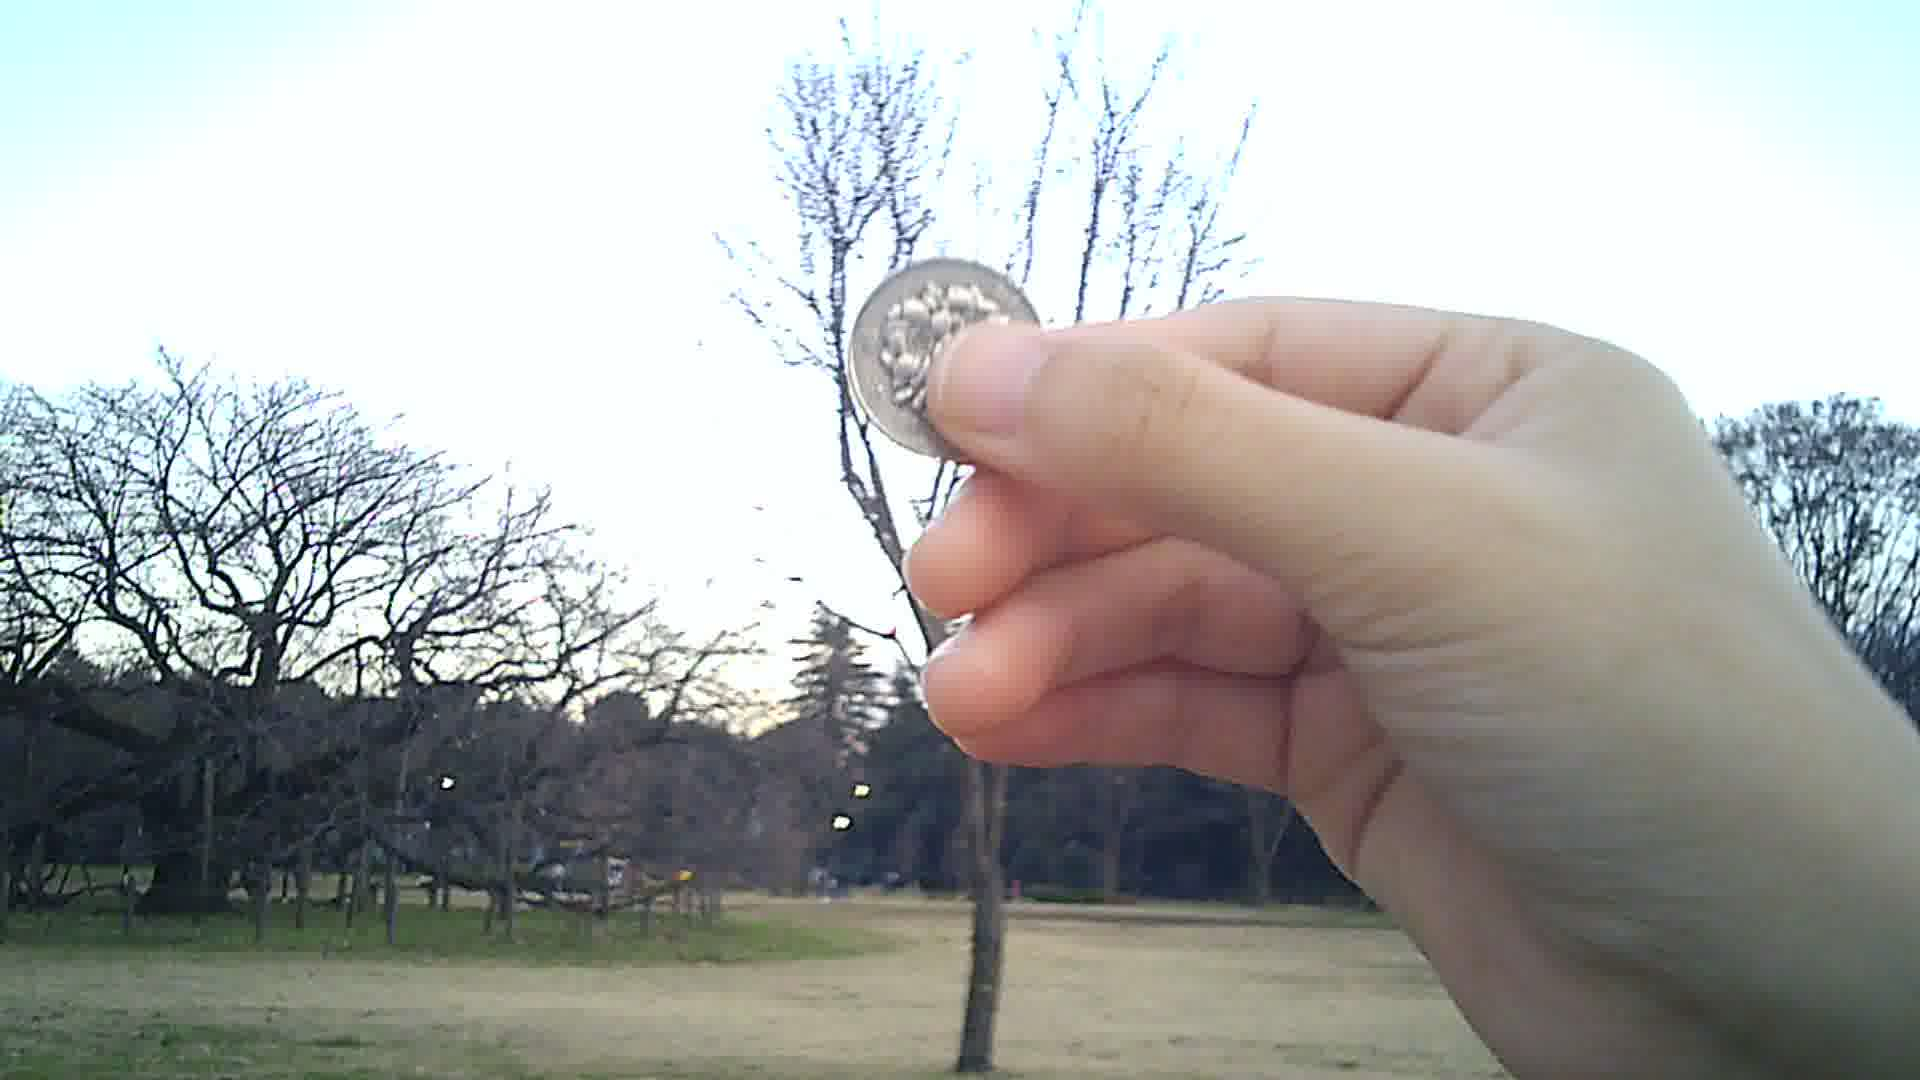100 Yen: (843, 253, 1044, 465)
